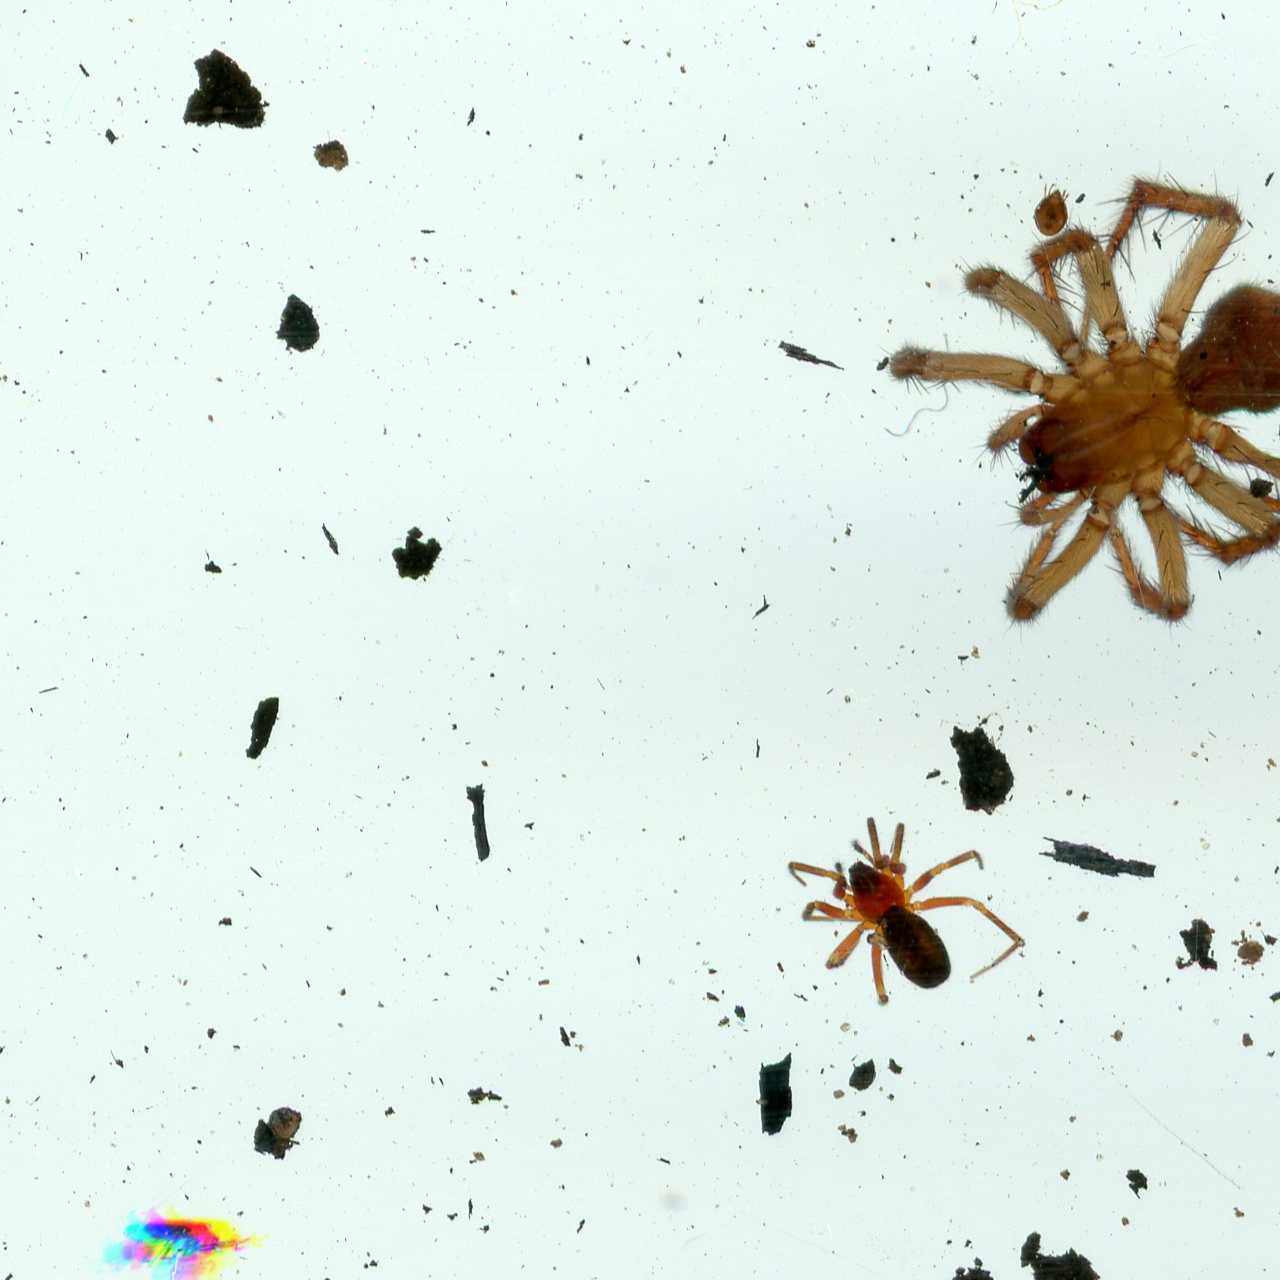arthropod: (869, 155, 1280, 645), (783, 812, 1029, 1013), (95, 1205, 253, 1280)
